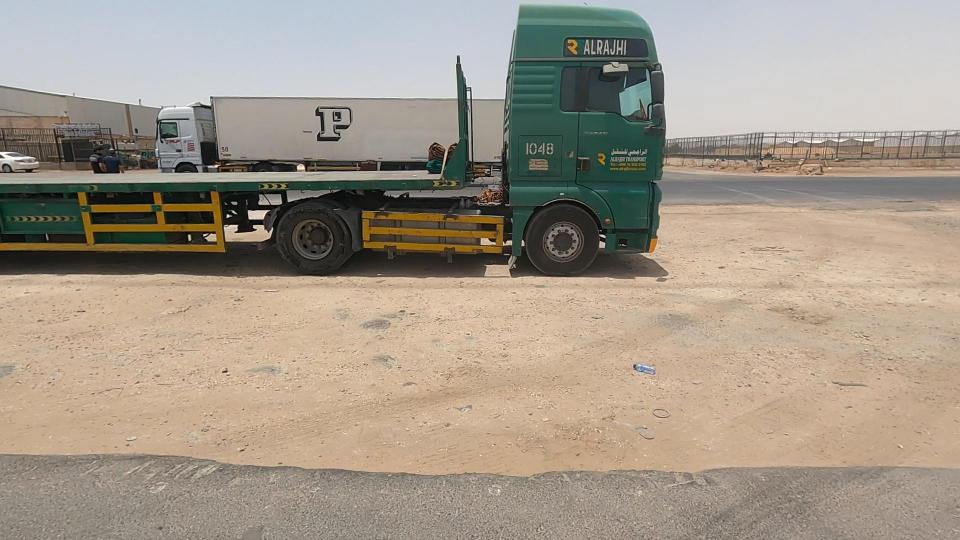CONSTRUCTION_ROAD: (0, 111, 824, 532), (580, 88, 960, 507)
GARBAGE: (581, 313, 700, 418)
